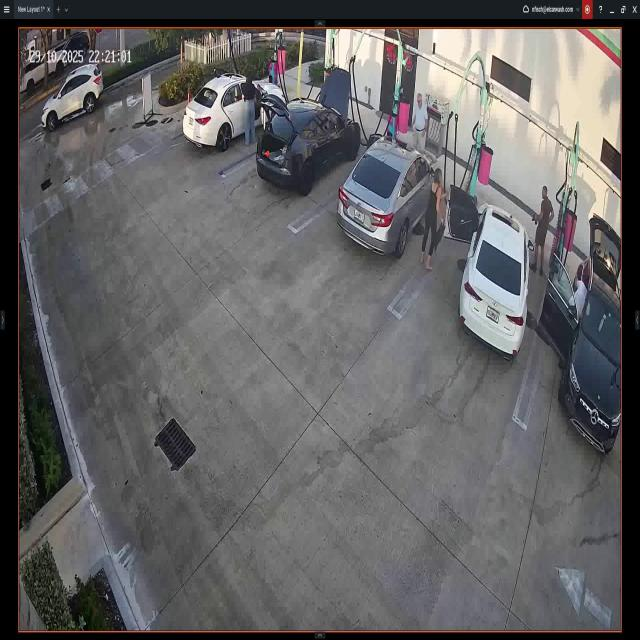Car: (546, 210, 620, 450), (448, 180, 532, 361), (254, 70, 360, 196), (342, 135, 437, 260), (190, 73, 284, 157), (39, 64, 103, 134)
